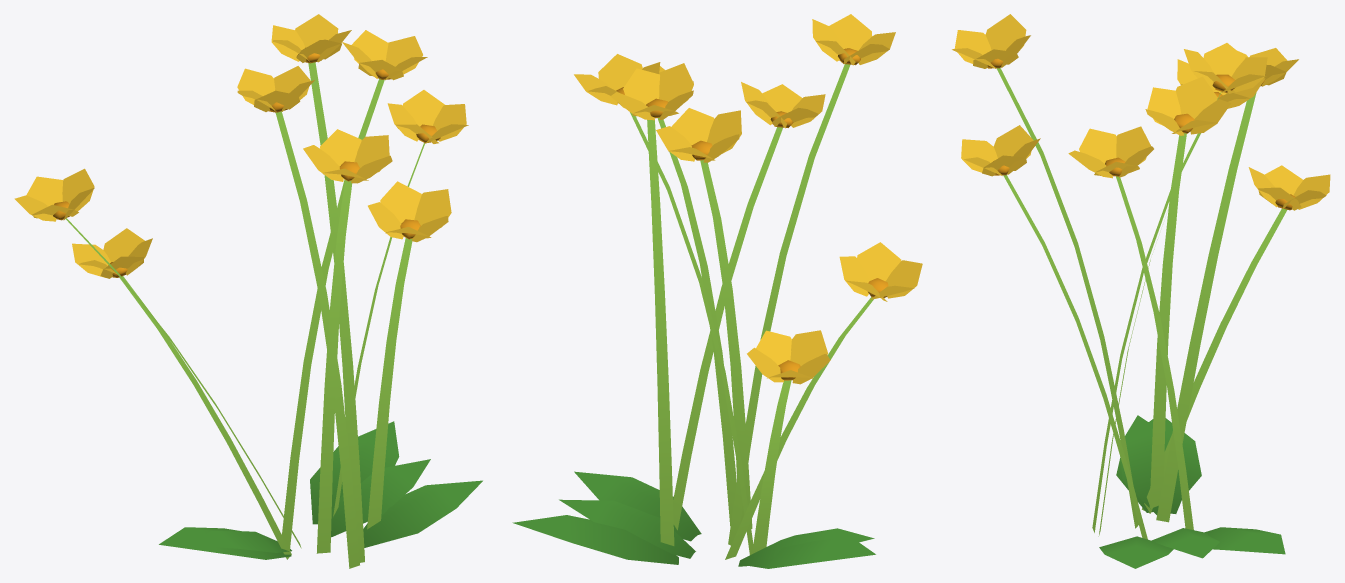
File: buttercup1.gltf
3 renders of one model, left to right at view 1: azimuth 30°, elevation 25°; view 2: azimuth 150°, elevation 25°; view 3: azimuth 270°, elevation 25°, orthographic.
Visible parts, largest first — view 1: buttercup1_stalk_LOD0, buttercup1_petal_LOD0, buttercup1_leaf_LOD0, buttercup1_center_LOD0; view 2: buttercup1_stalk_LOD0, buttercup1_petal_LOD0, buttercup1_leaf_LOD0, buttercup1_center_LOD0; view 3: buttercup1_stalk_LOD0, buttercup1_petal_LOD0, buttercup1_leaf_LOD0, buttercup1_center_LOD0.
Boxes of the visible parts, box(x1,y1,x2,y2) form: buttercup1_stalk_LOD0: box(66, 62, 424, 568); buttercup1_petal_LOD0: box(14, 14, 468, 278); buttercup1_leaf_LOD0: box(159, 421, 482, 559); buttercup1_center_LOD0: box(53, 47, 440, 277); buttercup1_stalk_LOD0: box(630, 64, 873, 559); buttercup1_petal_LOD0: box(574, 14, 922, 384); buttercup1_leaf_LOD0: box(512, 471, 875, 568); buttercup1_center_LOD0: box(616, 48, 888, 380); buttercup1_stalk_LOD0: box(996, 68, 1287, 539); buttercup1_petal_LOD0: box(952, 14, 1330, 210); buttercup1_leaf_LOD0: box(1099, 415, 1285, 568); buttercup1_center_LOD0: box(987, 58, 1295, 210).
Size of what is drawn, in the model's own units: 0.2901 by 0.3408 by 0.2391.
